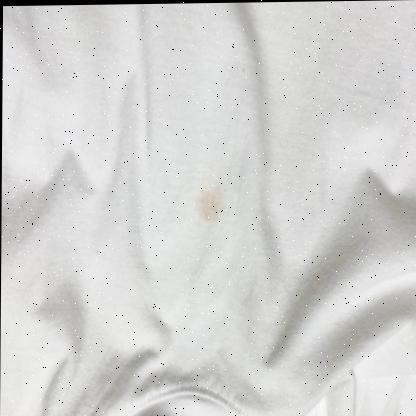coffee: (196, 190, 223, 222)
